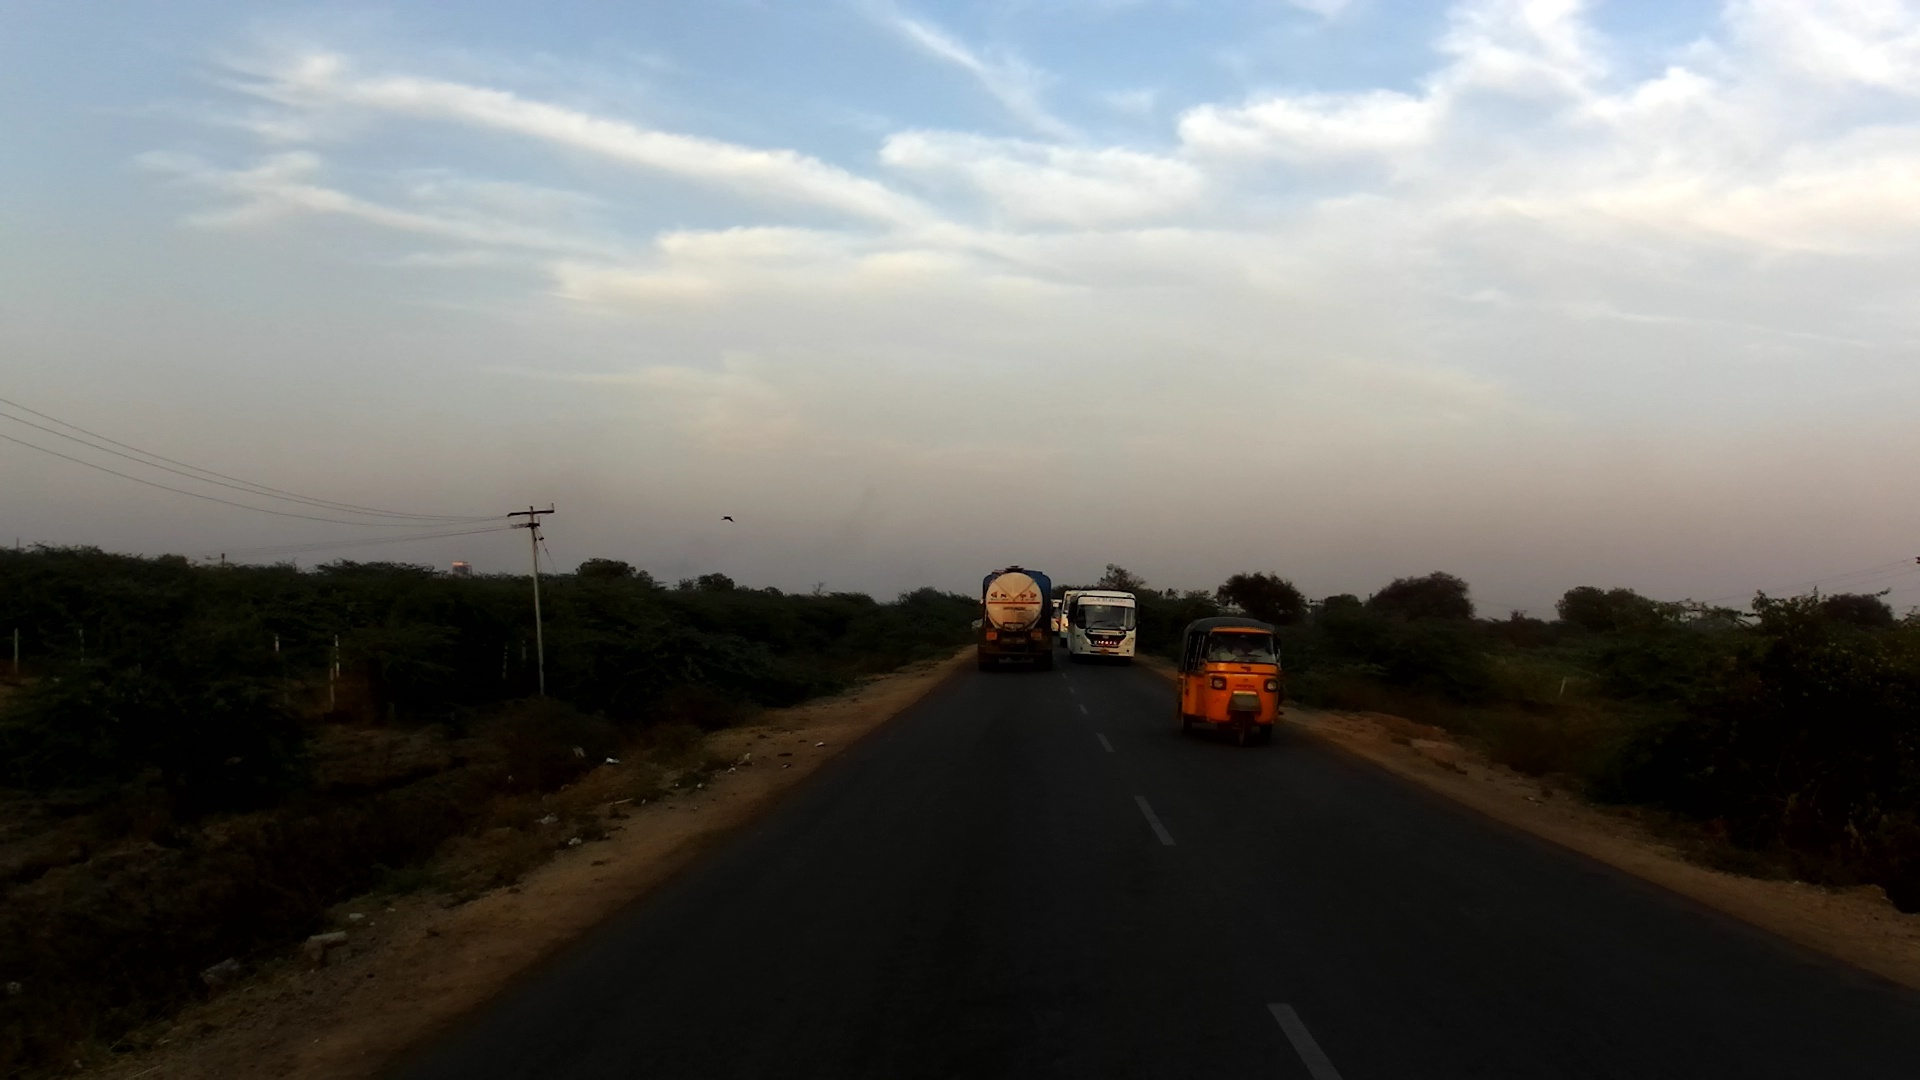autorickshaw: (1175, 613, 1286, 750)
bus: (1069, 584, 1135, 663), (1059, 588, 1077, 659), (1042, 597, 1064, 640)
truck: (973, 564, 1063, 675)
